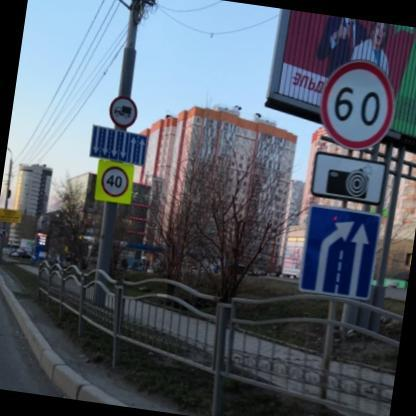road_sign: (301, 207, 378, 299), (321, 60, 394, 149), (313, 151, 386, 205), (90, 125, 146, 165), (96, 161, 132, 202), (109, 96, 137, 129)
